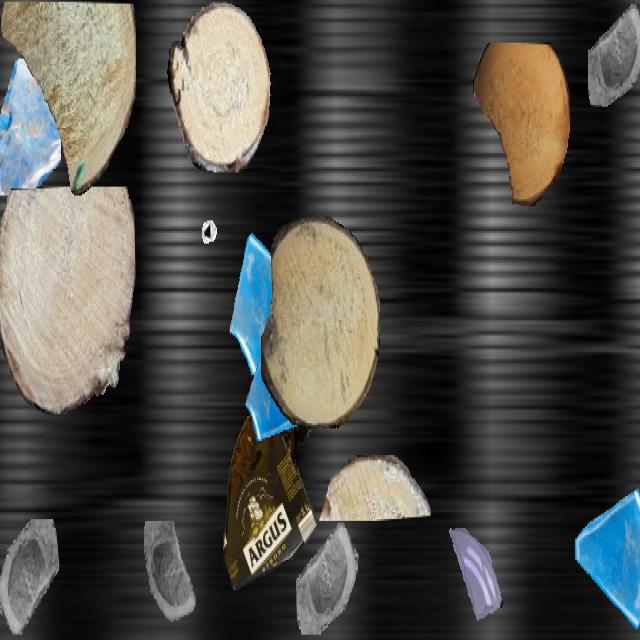glass: (227, 220, 319, 384), (571, 478, 640, 638), (0, 58, 60, 194), (139, 521, 205, 638), (245, 338, 309, 452), (296, 523, 358, 633), (0, 519, 59, 633), (446, 524, 504, 628), (588, 2, 640, 108), (637, 426, 640, 562)
metal: (199, 190, 237, 258)
plastic: (223, 398, 317, 590), (0, 2, 7, 247)
wood: (0, 187, 135, 414), (0, 2, 136, 194), (261, 217, 379, 427), (167, 2, 271, 172), (473, 43, 569, 206), (317, 455, 431, 519)
